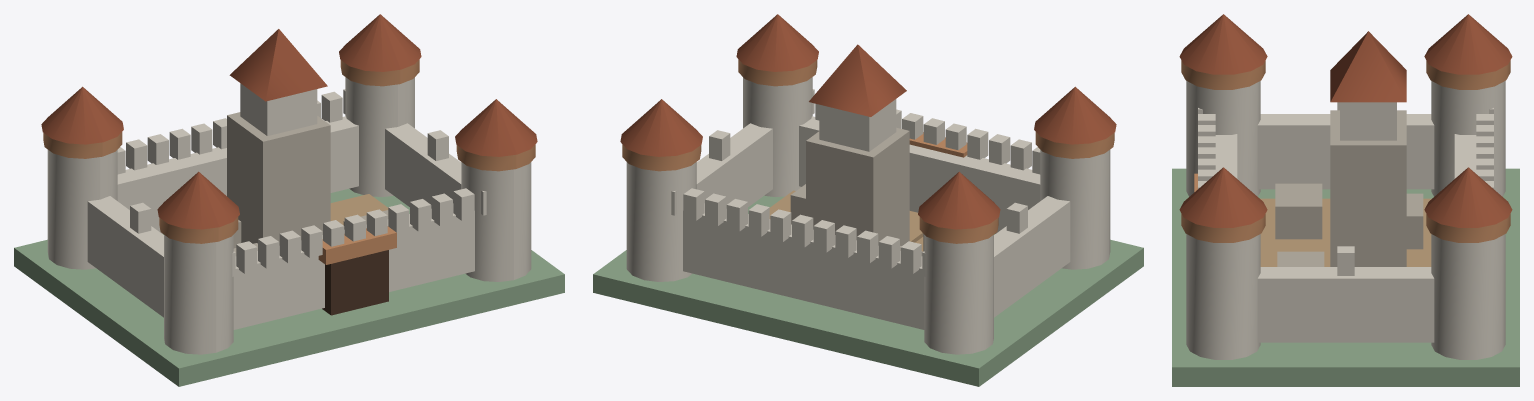
Rendered from castle_of_consuegra_light.glb.
The picture shows the model from 3 angles, left to right: view 1: azimuth 30°, elevation 25°; view 2: azimuth 150°, elevation 25°; view 3: azimuth 270°, elevation 25°; orthographic projection. The views are drawn at different scales.
Parts seen in each view (by area): view 1: rocky_base, main_keep, south_defensive_wall, south_west_tower, south_east_tower, north_defensive_wall, north_west_tower, west_defensive_wall, north_east_tower, east_defensive_wall, keep_roof, entrance_gate (+29 smaller); view 2: rocky_base, north_defensive_wall, main_keep, north_west_tower, north_east_tower, south_west_tower, south_defensive_wall, west_defensive_wall, south_east_tower, east_defensive_wall, keep_roof, north_east_roof (+27 smaller); view 3: rocky_base, east_defensive_wall, main_keep, north_east_tower, south_east_tower, west_defensive_wall, north_west_tower, south_west_tower, keep_roof, north_west_roof, south_west_roof, north_east_roof (+14 smaller).
Part boxes in pixels (x1,y1,x2,y2): rocky_base: (14, 188, 564, 386); main_keep: (227, 112, 330, 245); south_defensive_wall: (233, 203, 474, 329); south_west_tower: (164, 235, 233, 354); south_east_tower: (461, 162, 531, 281); north_defensive_wall: (117, 116, 358, 233); north_west_tower: (47, 150, 117, 269); west_defensive_wall: (87, 196, 163, 317); north_east_tower: (345, 77, 414, 196); east_defensive_wall: (385, 123, 461, 208); keep_roof: (229, 29, 327, 101); entrance_gate: (322, 250, 388, 315); rocky_base: (593, 195, 1143, 386); north_defensive_wall: (683, 203, 924, 329); main_keep: (806, 127, 909, 245); north_west_tower: (924, 235, 993, 354); north_east_tower: (626, 162, 696, 281); south_west_tower: (1040, 150, 1110, 269); south_defensive_wall: (799, 116, 1040, 233); west_defensive_wall: (994, 196, 1070, 317); south_east_tower: (743, 77, 812, 196); east_defensive_wall: (696, 123, 772, 208); keep_roof: (809, 44, 906, 116); north_east_roof: (620, 99, 702, 156); rocky_base: (1172, 168, 1519, 386); east_defensive_wall: (1257, 267, 1434, 342); main_keep: (1330, 110, 1406, 266); north_east_tower: (1431, 234, 1505, 359); south_east_tower: (1186, 234, 1260, 359); west_defensive_wall: (1257, 114, 1434, 189); north_west_tower: (1431, 81, 1505, 196); south_west_tower: (1186, 81, 1260, 196); keep_roof: (1330, 31, 1406, 102); north_west_roof: (1424, 14, 1512, 74); south_west_roof: (1179, 14, 1267, 74); north_east_roof: (1424, 167, 1512, 227).
Bounding box in the file's own units: 4.8 × 2.89 × 3.55.
